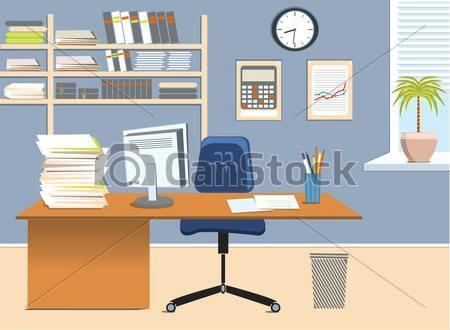chair: (168, 134, 281, 313)
pottedplant: (390, 74, 441, 163)
